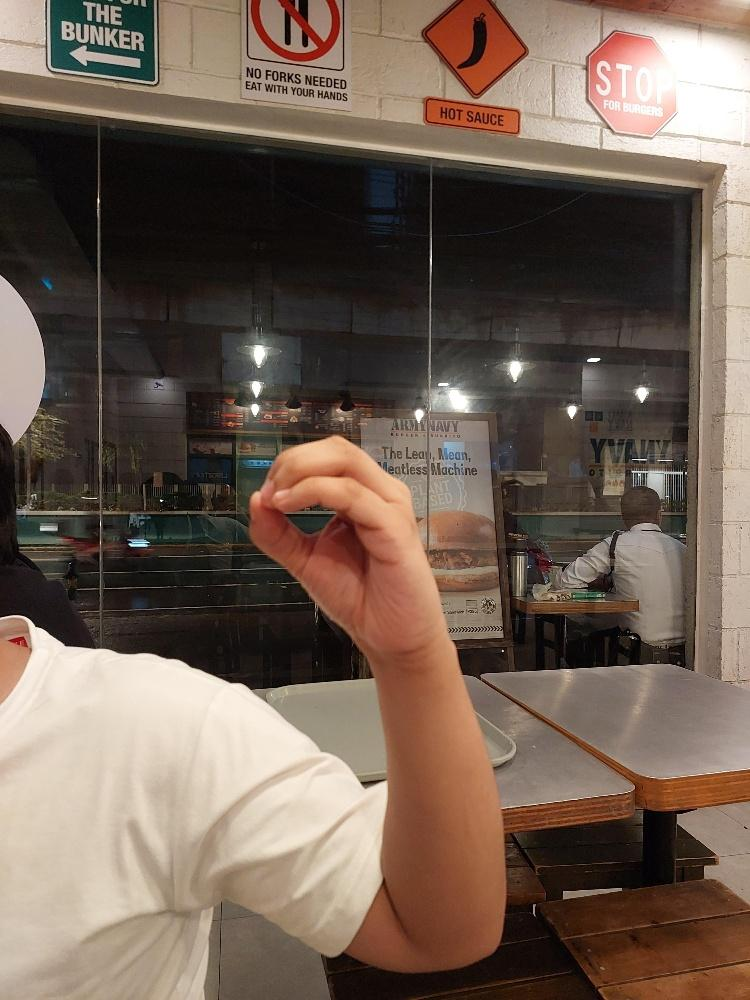o: (246, 432, 444, 651)
